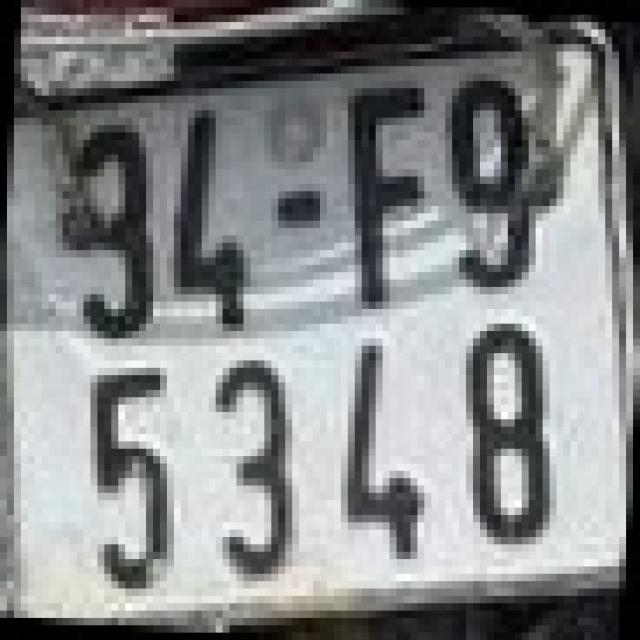3: (209, 353, 299, 581)
4: (167, 103, 257, 331), (341, 338, 431, 559)
5: (90, 368, 174, 588)
8: (459, 316, 557, 544)
9: (445, 66, 543, 294), (56, 125, 160, 338)
F: (334, 74, 445, 309)
